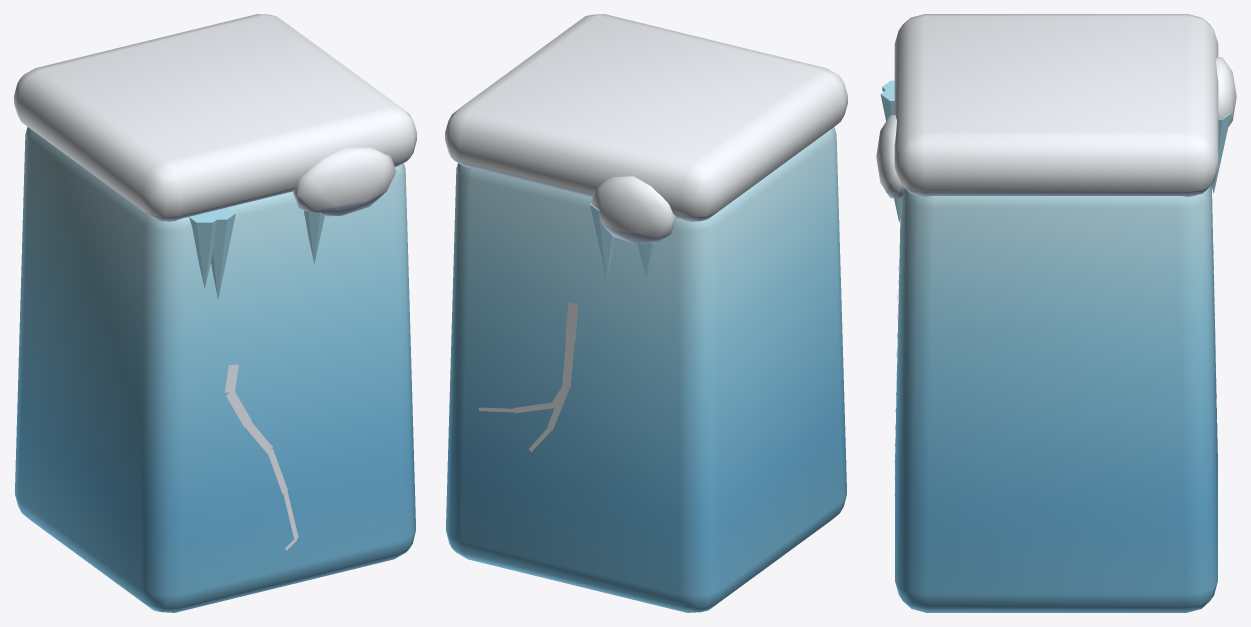
The model's file is GlacierBlockD.fbx.
The picture shows the model from 3 angles, left to right: view 1: azimuth 30°, elevation 25°; view 2: azimuth 150°, elevation 25°; view 3: azimuth 270°, elevation 25°; orthographic projection. The views are drawn at different scales.
Visible parts, largest first — view 1: GlacierBlockD; view 2: GlacierBlockD; view 3: GlacierBlockD.
Boxes of the visible parts, x1,y1,x2,y2 form: GlacierBlockD: (14,14,416,612); GlacierBlockD: (445,14,847,612); GlacierBlockD: (876,14,1236,612).
Bounding box in the file's own units: 1.43 × 2.28 × 1.56.
Materials: 1 (1 with a texture image).
